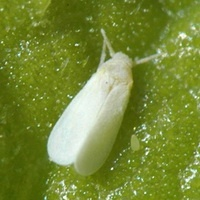insect: (47, 29, 132, 174)
